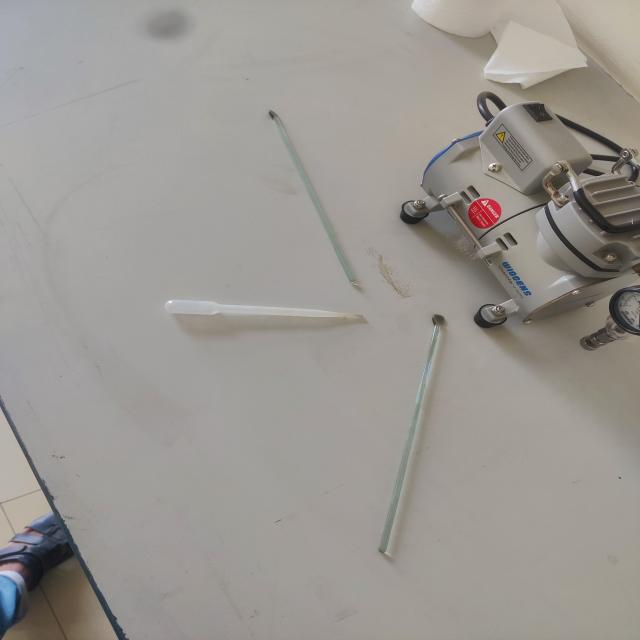Glass_Rod: (355, 301, 487, 578), (252, 93, 378, 303)
Pipette: (141, 278, 369, 342)
